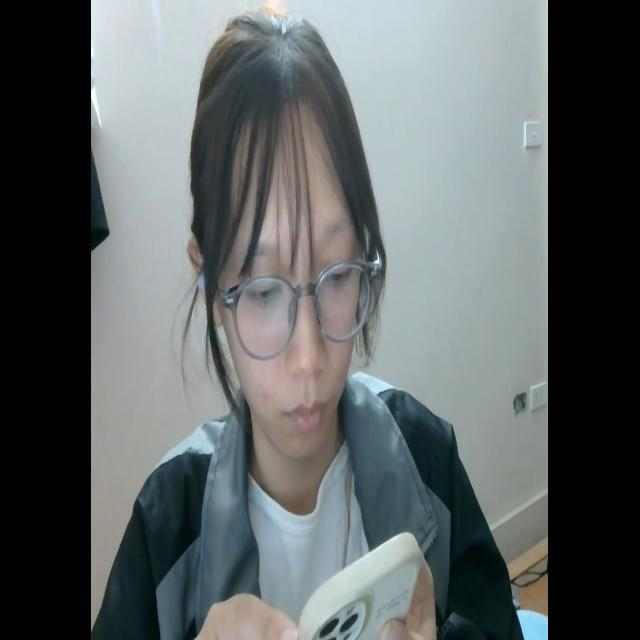phone: (291, 526, 421, 640)
student: (98, 6, 523, 640)
